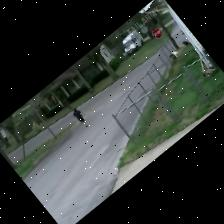person: (74, 109, 87, 126)
